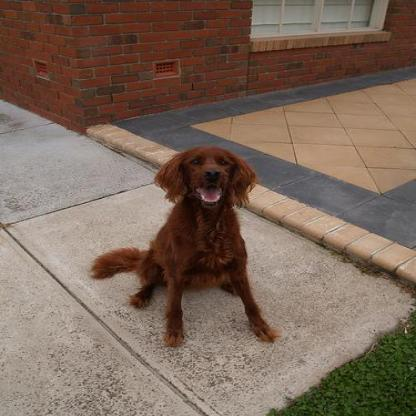Irish_setter: (89, 142, 282, 346)
